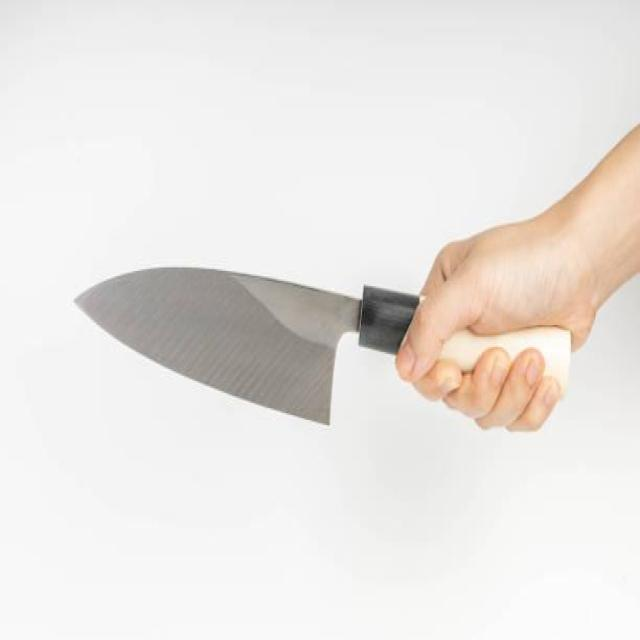faca: (59, 206, 602, 486)
